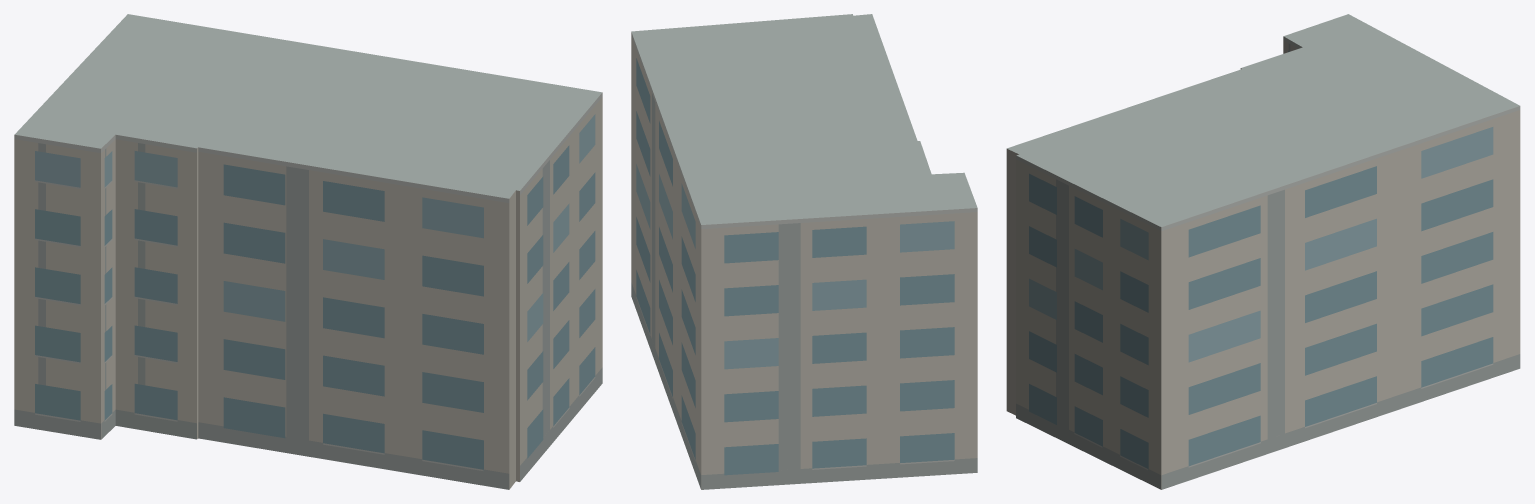
File: survey-upis-32978163.glb
3 renders of one model, left to right at view 1: azimuth 30°, elevation 25°; view 2: azimuth 150°, elevation 25°; view 3: azimuth 270°, elevation 25°, orthographic. The views are drawn at different scales.
Visible parts, largest first — view 1: survey-upis-32978163.tmp; view 2: survey-upis-32978163.tmp; view 3: survey-upis-32978163.tmp.
Boxes of the visible parts, x1,y1,x2,y2 form: survey-upis-32978163.tmp: [14, 14, 602, 489]; survey-upis-32978163.tmp: [631, 14, 977, 489]; survey-upis-32978163.tmp: [1006, 14, 1520, 489].
Bounding box in the file's own units: 27.63 × 15.86 × 28.13.
